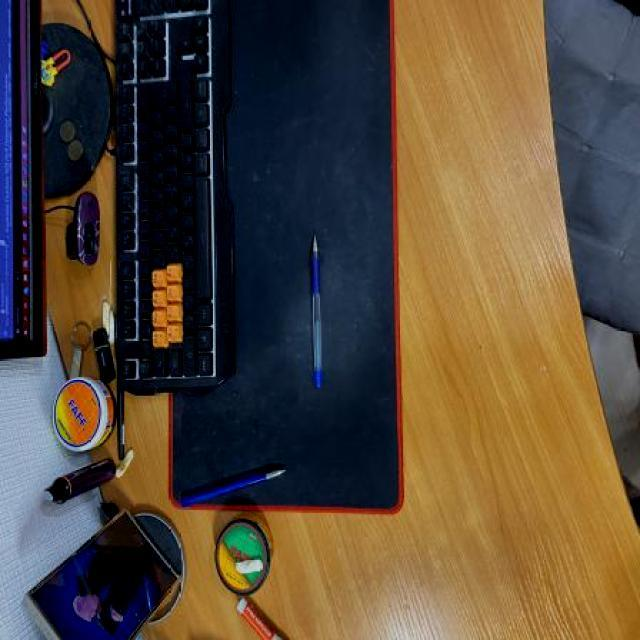pen: (311, 234, 326, 390)
